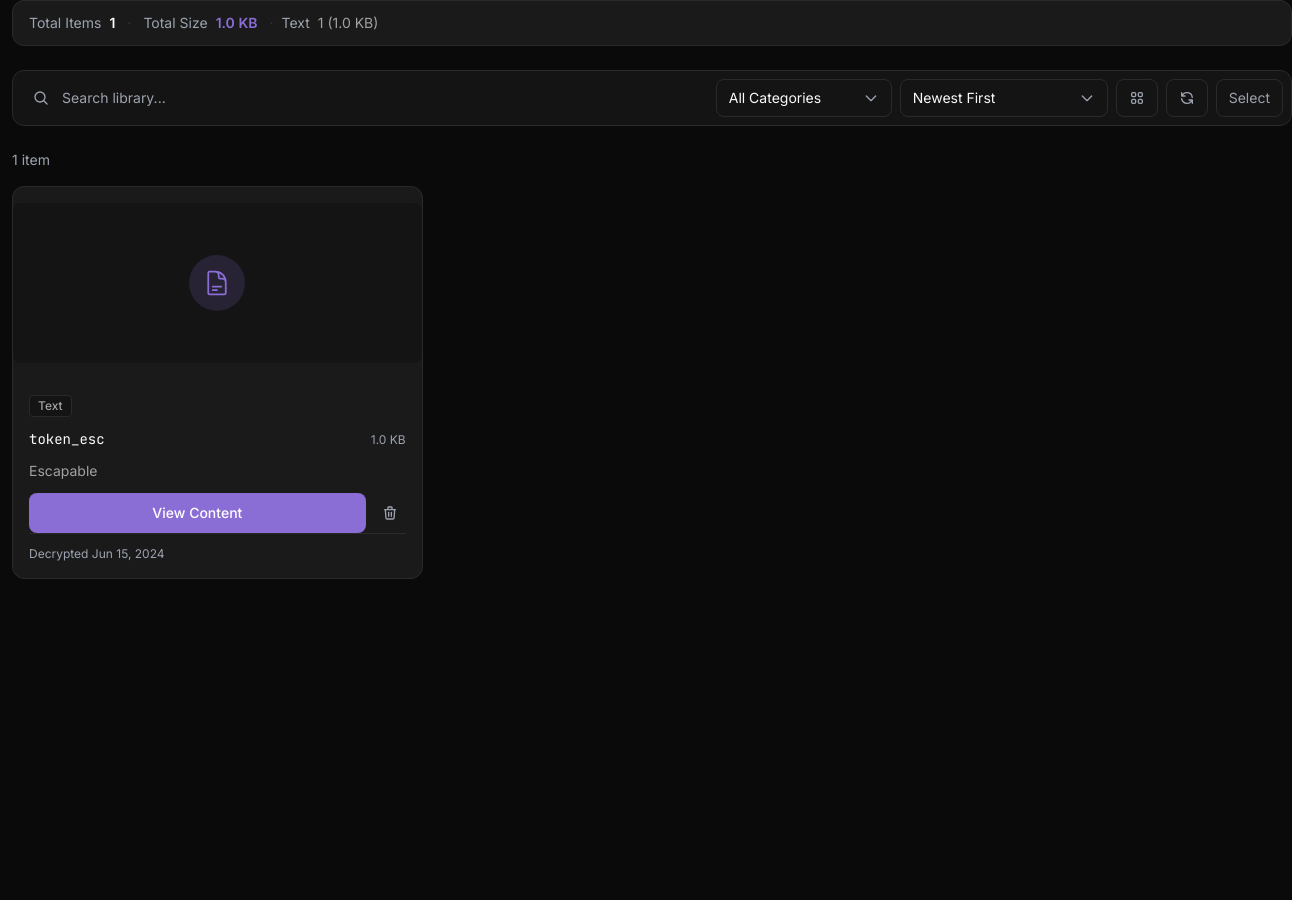
it: LibraryTab › select mode escape key › exits select mode and clears selection on Escape
Expected: the text "Escapable" is shown, [29,462,98,479]
# Enter select mode
Click the button "Select" at point(1249, 98), box [1216,79,1283,117]
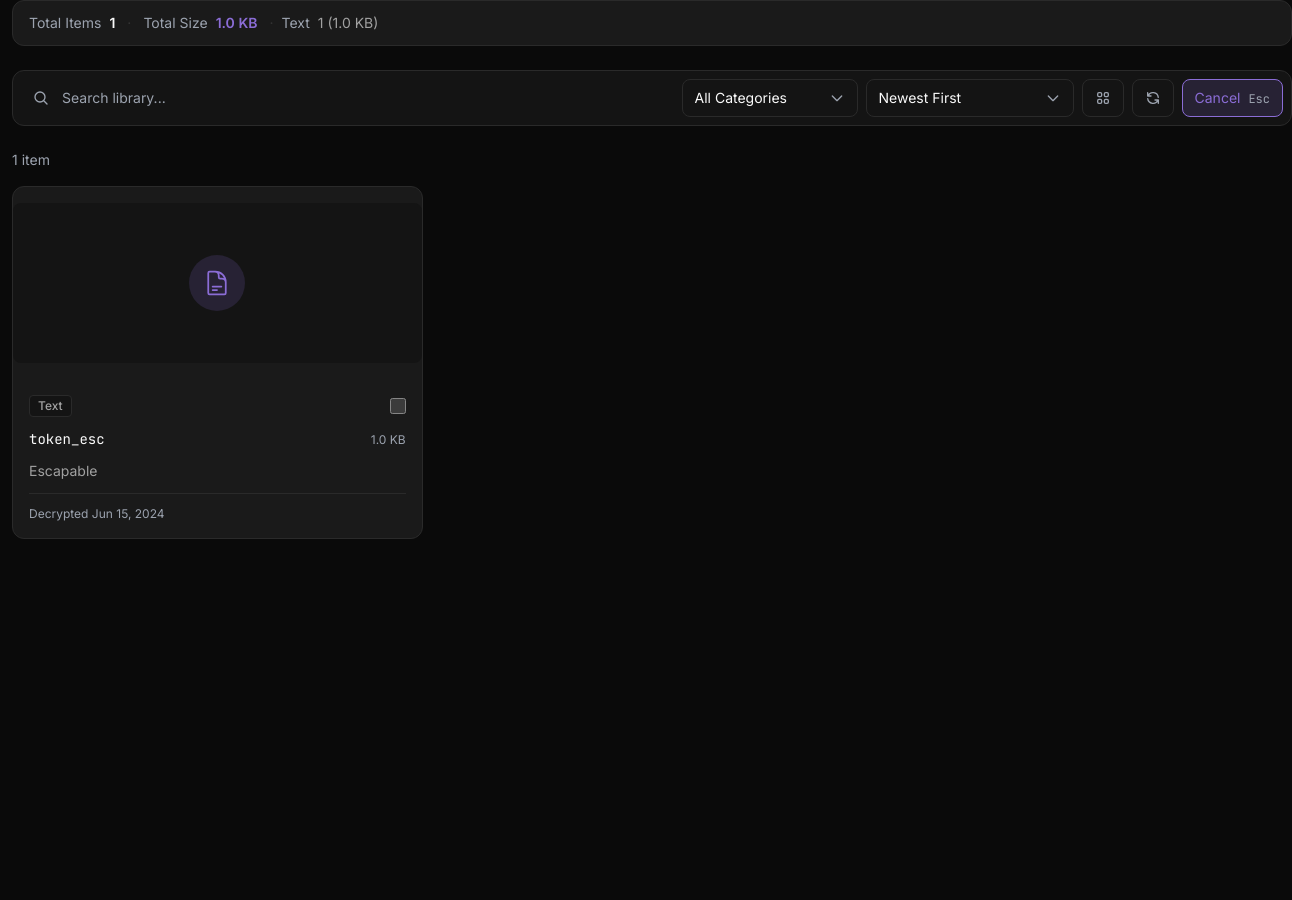
Expected: the text "Cancel" is shown, [1194,89,1240,106]
# Select the item
Click the checkbox at point(398, 406), box [390,398,406,414]
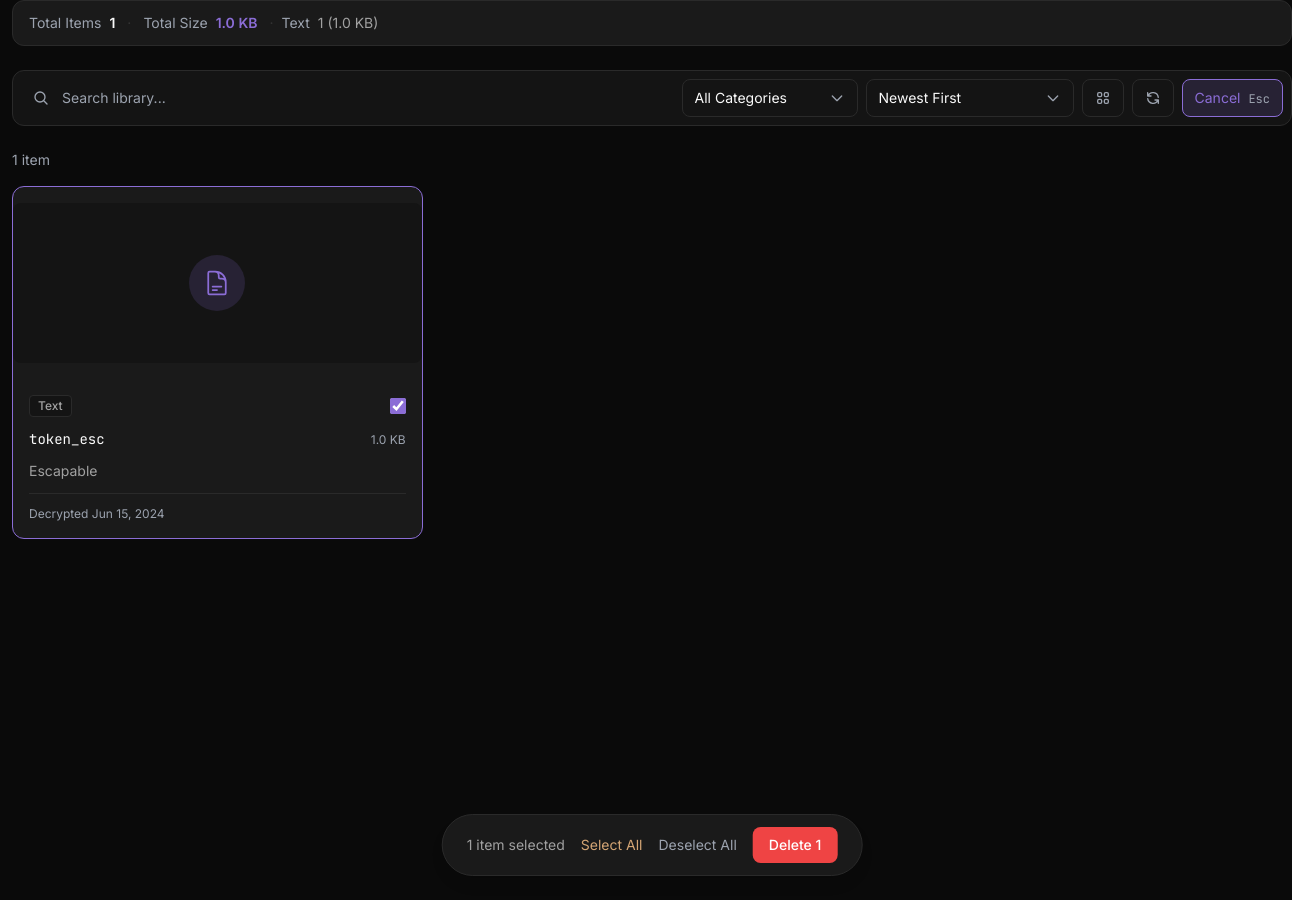
# Press Escape
Press Escape
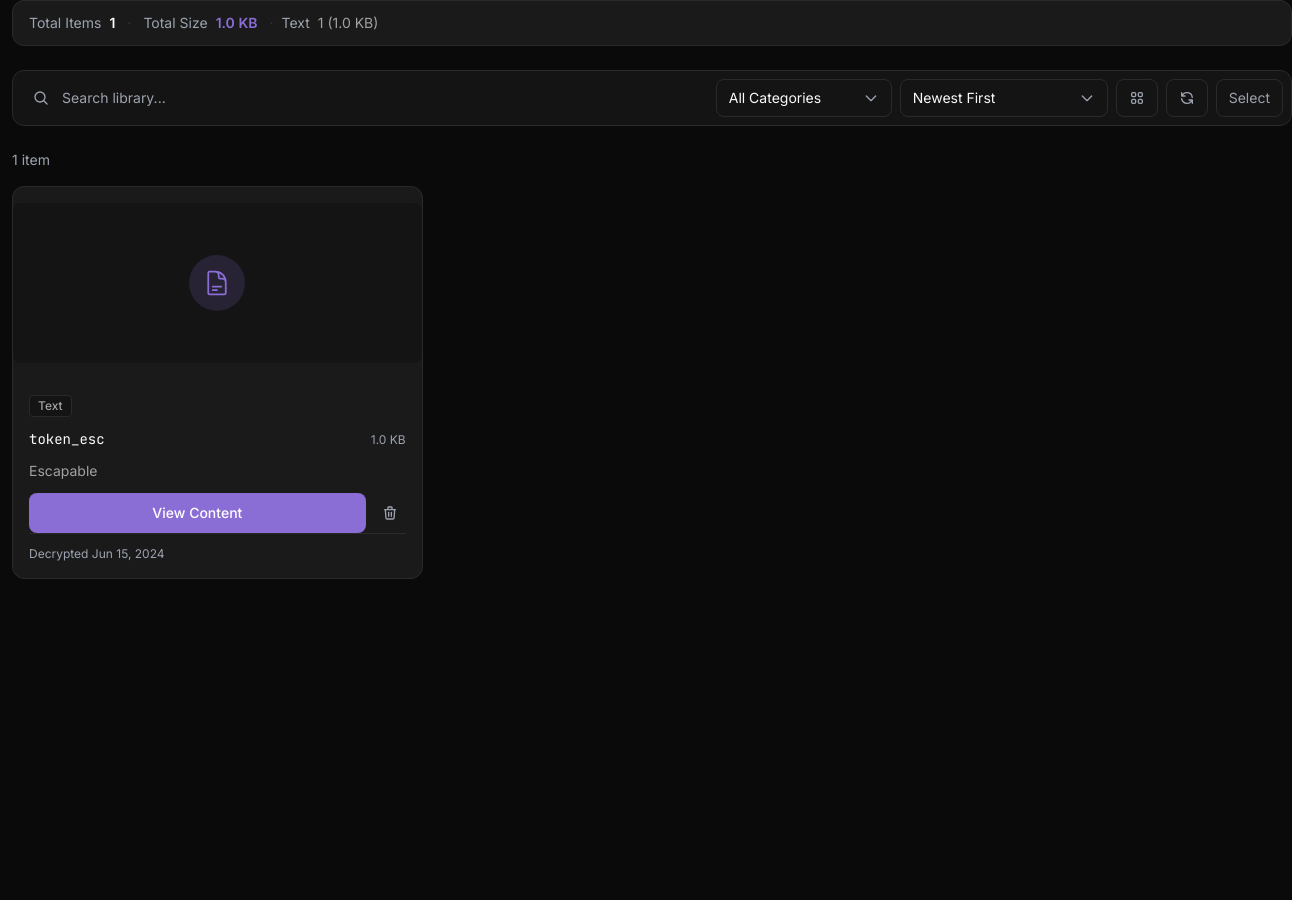
Expected: the button "Select" is shown, [1216,79,1283,117]
Expected: the text "Cancel" is gone
Expected: the checkbox is gone
